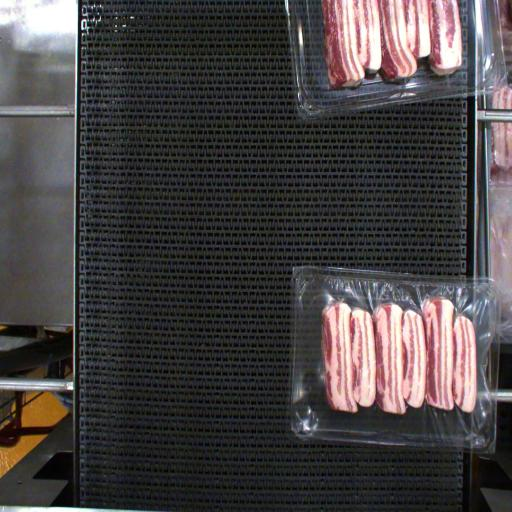unsealed: (295, 270, 494, 437)
